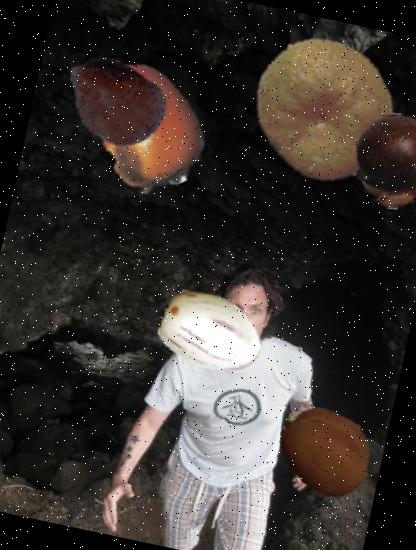Apricot: (267, 395, 382, 509)
Kaki: (67, 46, 227, 206)
Mandarine: (236, 22, 410, 196)
Mangostan: (337, 104, 416, 218)
Pepino: (149, 268, 272, 392)
Salak: (49, 38, 178, 166)
